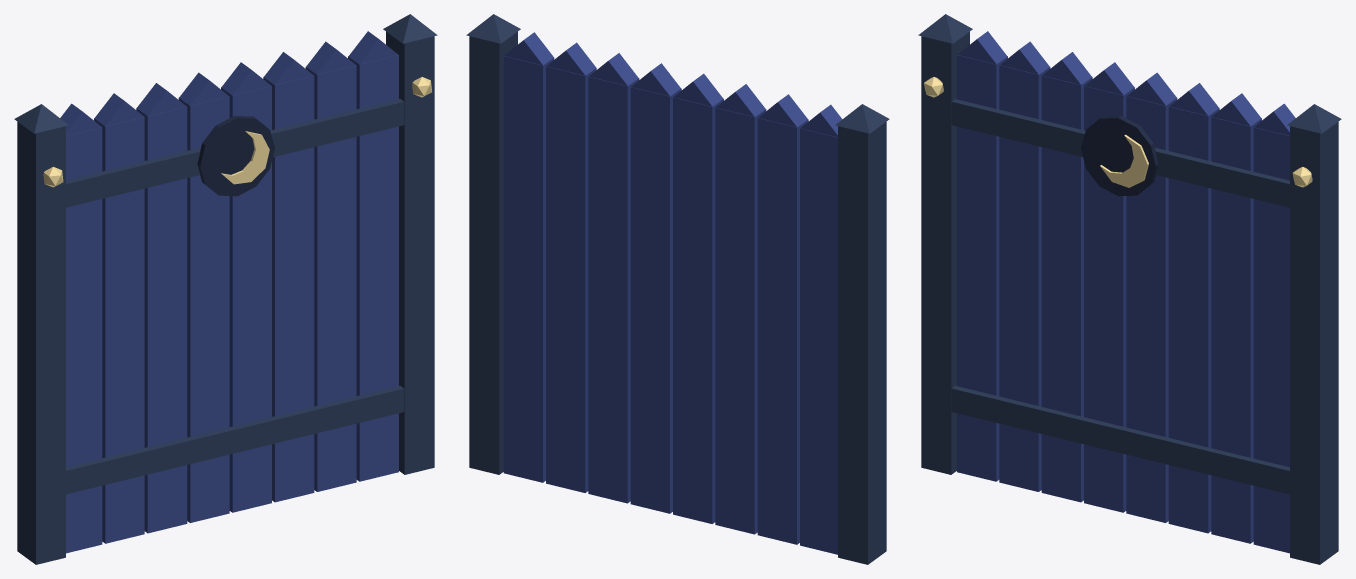
File: CatCafe_Alley_NightFenceSegment.glb
The picture shows the model from 3 angles, left to right: view 1: azimuth 30°, elevation 25°; view 2: azimuth 150°, elevation 25°; view 3: azimuth 330°, elevation 25°; orthographic projection.
Parts seen in each view (by area): view 1: CatCafe_Alley_NightFenceSegment, CatCafe_Alley_NightFenceSegment_Moon_Bulb; view 2: CatCafe_Alley_NightFenceSegment; view 3: CatCafe_Alley_NightFenceSegment, CatCafe_Alley_NightFenceSegment_Moon_Bulb.
Boxes of the visible parts, x1,y1,x2,y2 form: CatCafe_Alley_NightFenceSegment: (14, 14, 437, 564); CatCafe_Alley_NightFenceSegment_Moon_Bulb: (43, 77, 431, 187); CatCafe_Alley_NightFenceSegment: (466, 14, 889, 564); CatCafe_Alley_NightFenceSegment: (918, 14, 1341, 564); CatCafe_Alley_NightFenceSegment_Moon_Bulb: (924, 77, 1312, 187).
Bounding box in the file's own units: 8.1 × 8.64 × 0.9251.
1 material, 1 textured.
